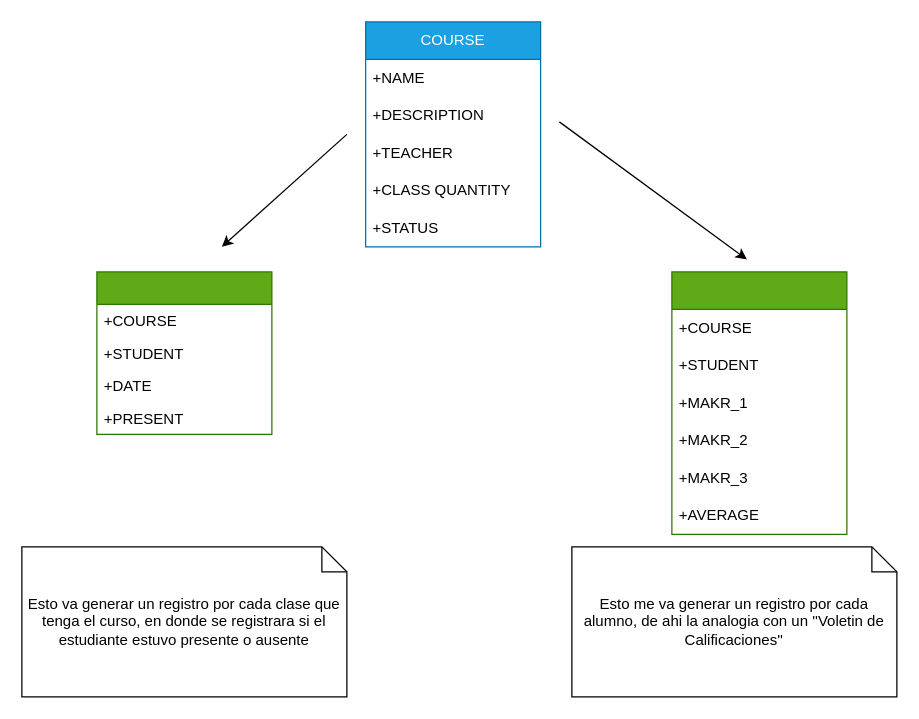
The diagram is 919 pixels wide and 719 high, and some of its shapes have lost their labels. Each missing label, with the box of its shape:
ATTENDANCE: (96, 271, 272, 434)
MARK: (671, 271, 847, 534)
